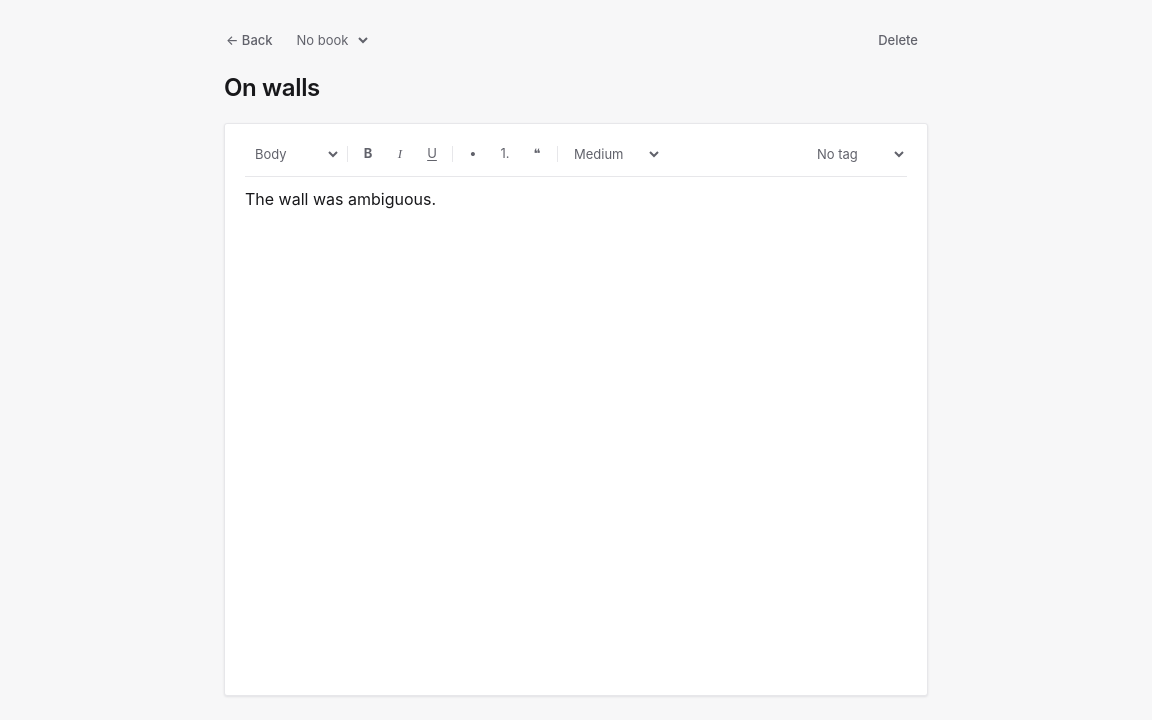
Test: deleting a note › asks first, and keeps the note when the answer is no
Expected: the button "On walls" is shown, [220,73,324,103]
What coordinates should you click on to do the following:
click the button "Delete"
I would click on:
 (898, 40)
Its box is [868,24,928,57].
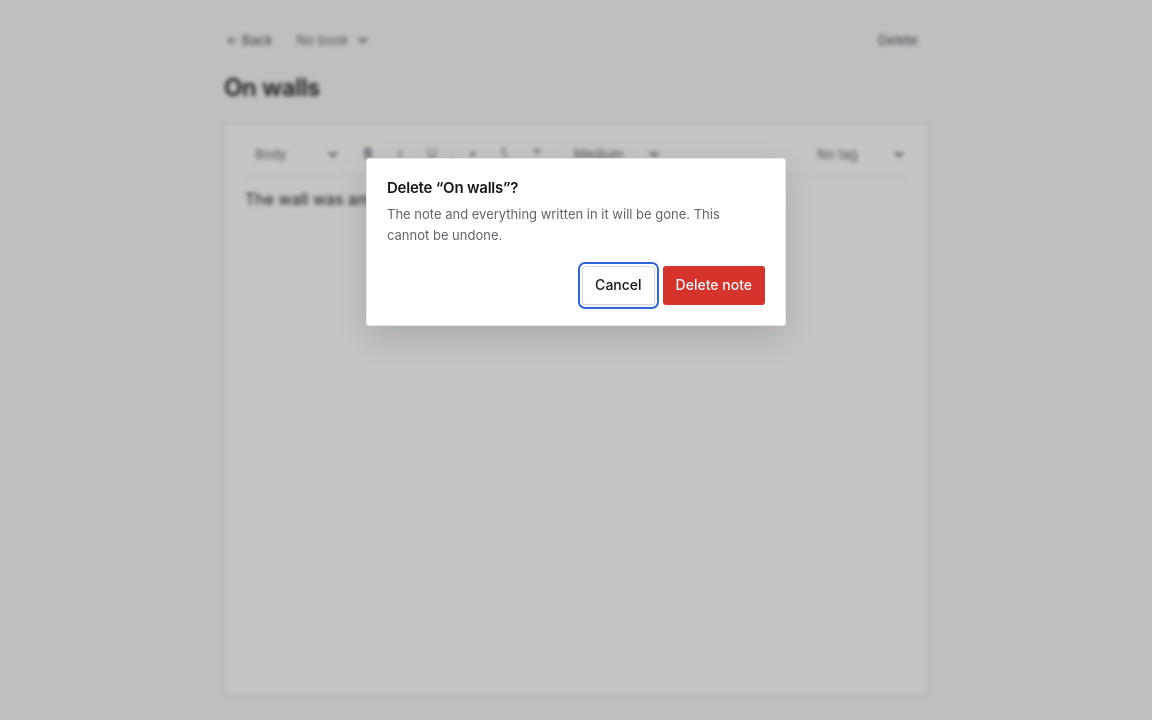
Result: the heading "Delete “On walls”?" is shown at [387,178,518,197]
What coordinates should you click on to do the following:
click the button "Cancel"
I would click on:
 (618, 286)
Its box is [582,266,655,305].
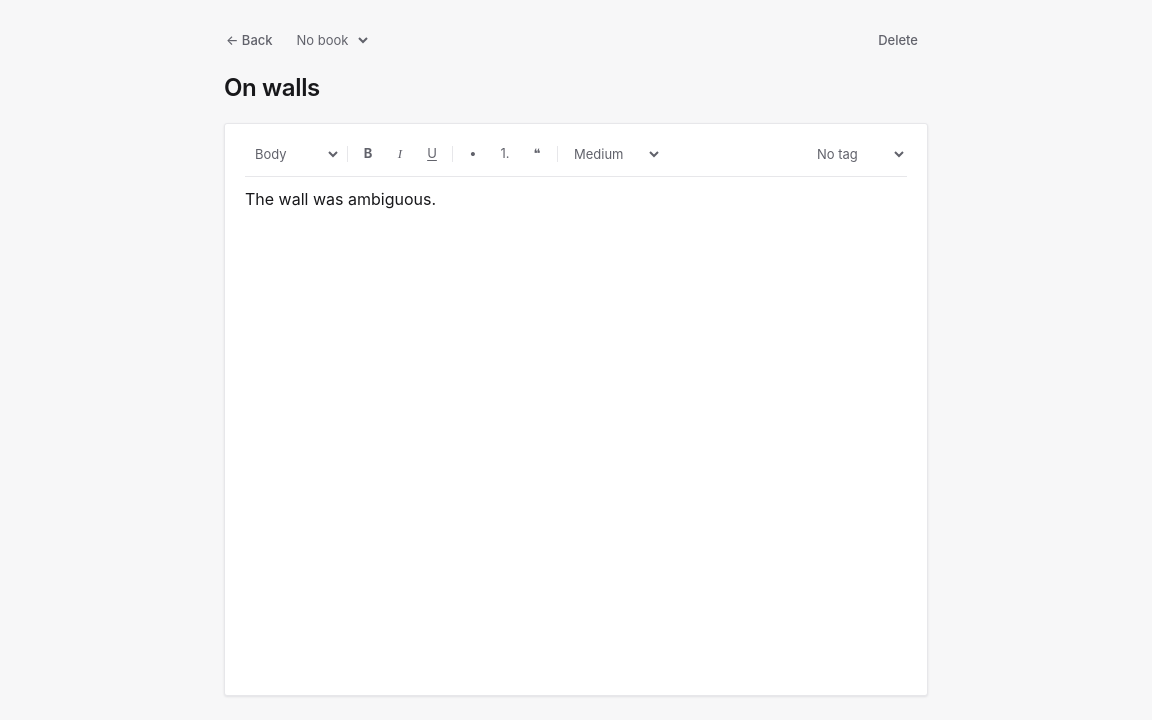
Result: the dialog is gone
